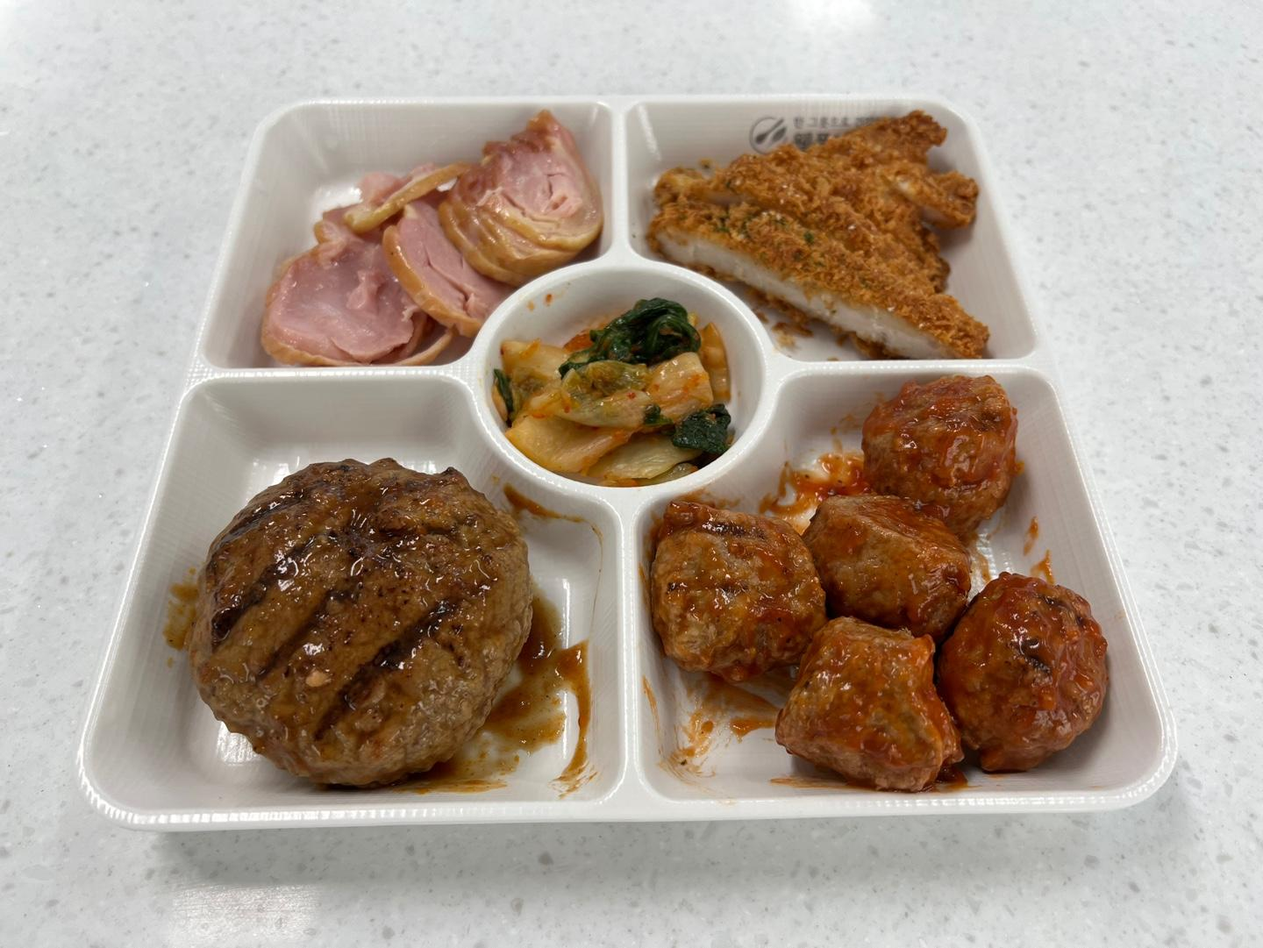food: (640, 377, 1112, 795), (672, 374, 1126, 785), (191, 460, 587, 794), (199, 465, 525, 785), (249, 110, 612, 373), (635, 113, 996, 365), (216, 126, 608, 355), (655, 115, 1001, 355), (488, 286, 739, 488), (498, 311, 737, 466)
